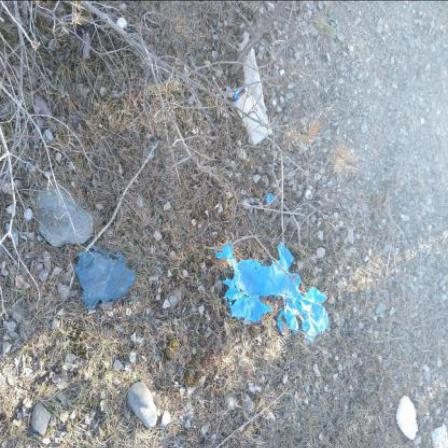Plastic bag - wrapper: (217, 243, 330, 346), (75, 245, 137, 309), (236, 48, 274, 146), (240, 34, 250, 52), (236, 89, 246, 102), (267, 194, 276, 203)
Styrofoam piece: (397, 396, 419, 441)
